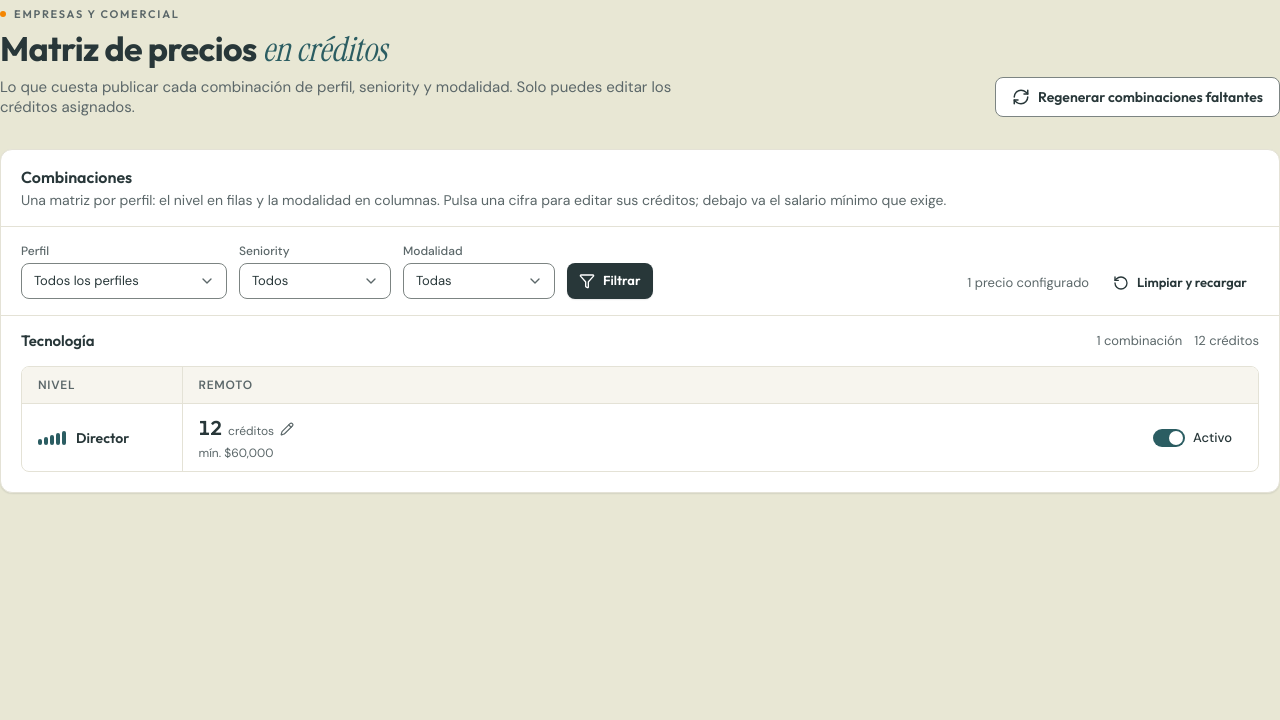
Test: /admin/pricing › ADM-067: el error del servidor al guardar se ve dentro del modal
Click the button titled "Editar créditos" at coordinates (246, 429), box [192,414,300,443]
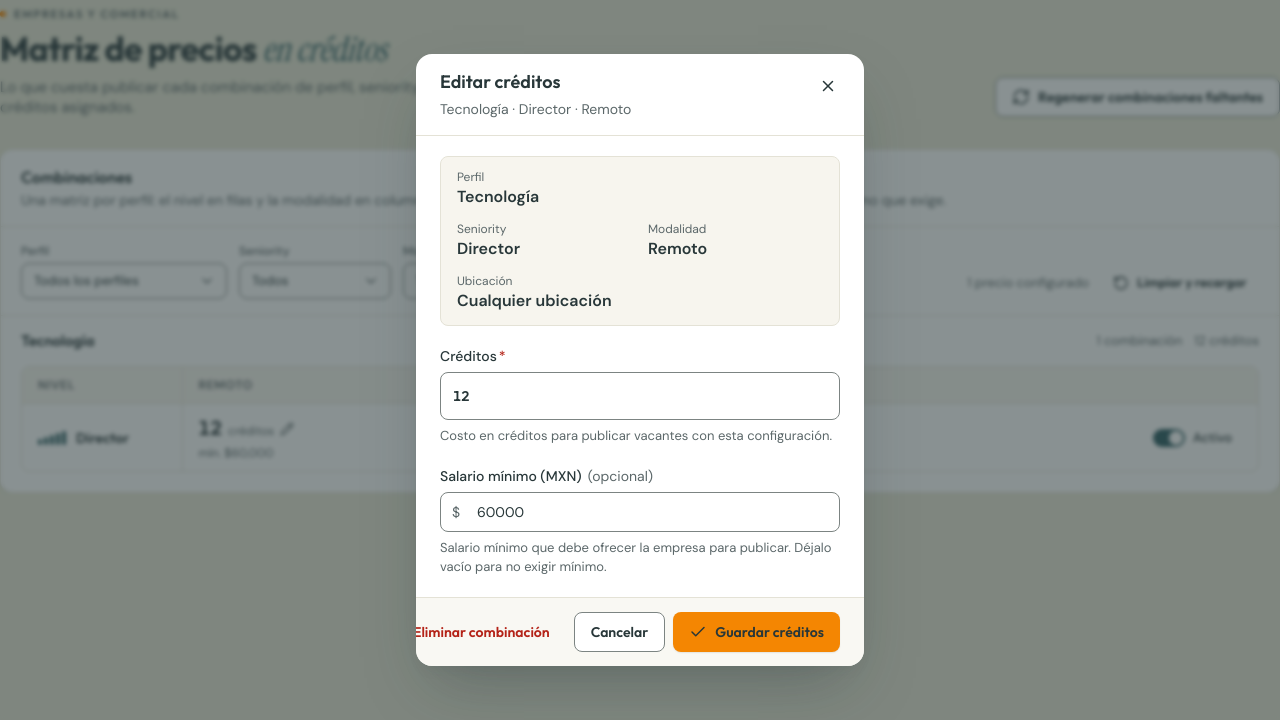
Replace the text in the number field labelled "Créditos*" with "9" at coordinates (640, 396), box [440,372,840,420]
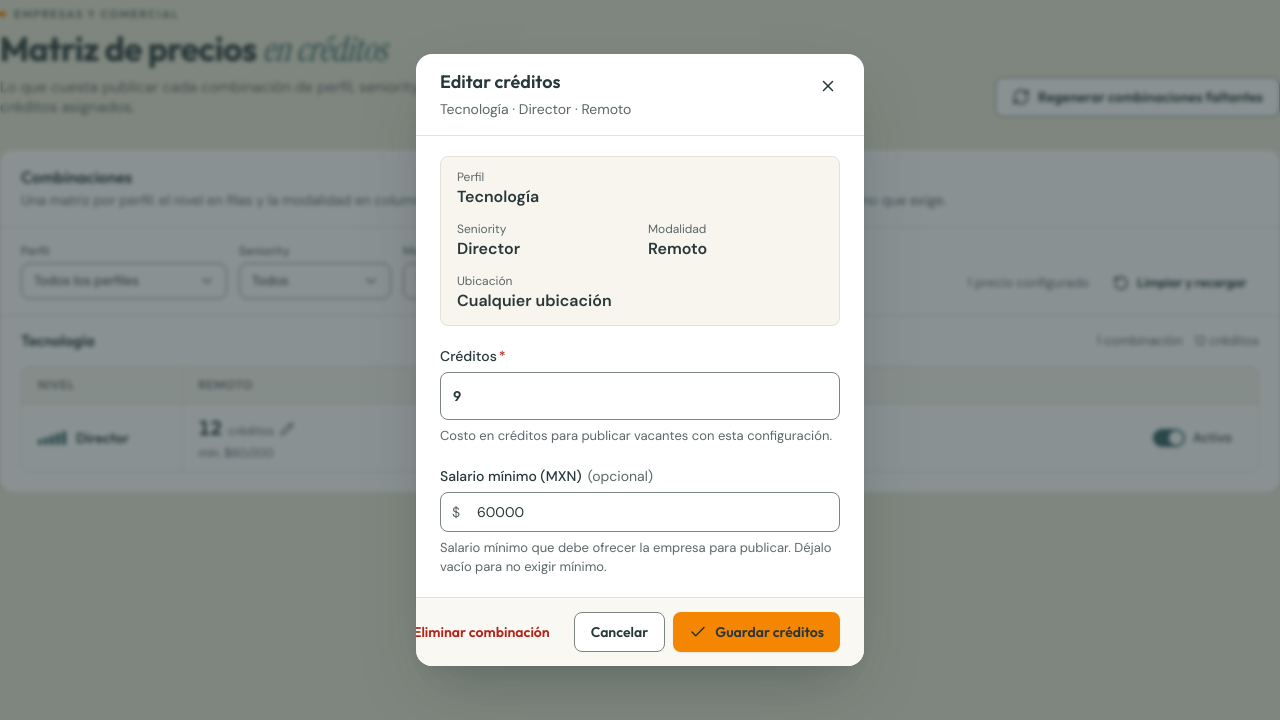
Submit the form, box [440,156,840,577]
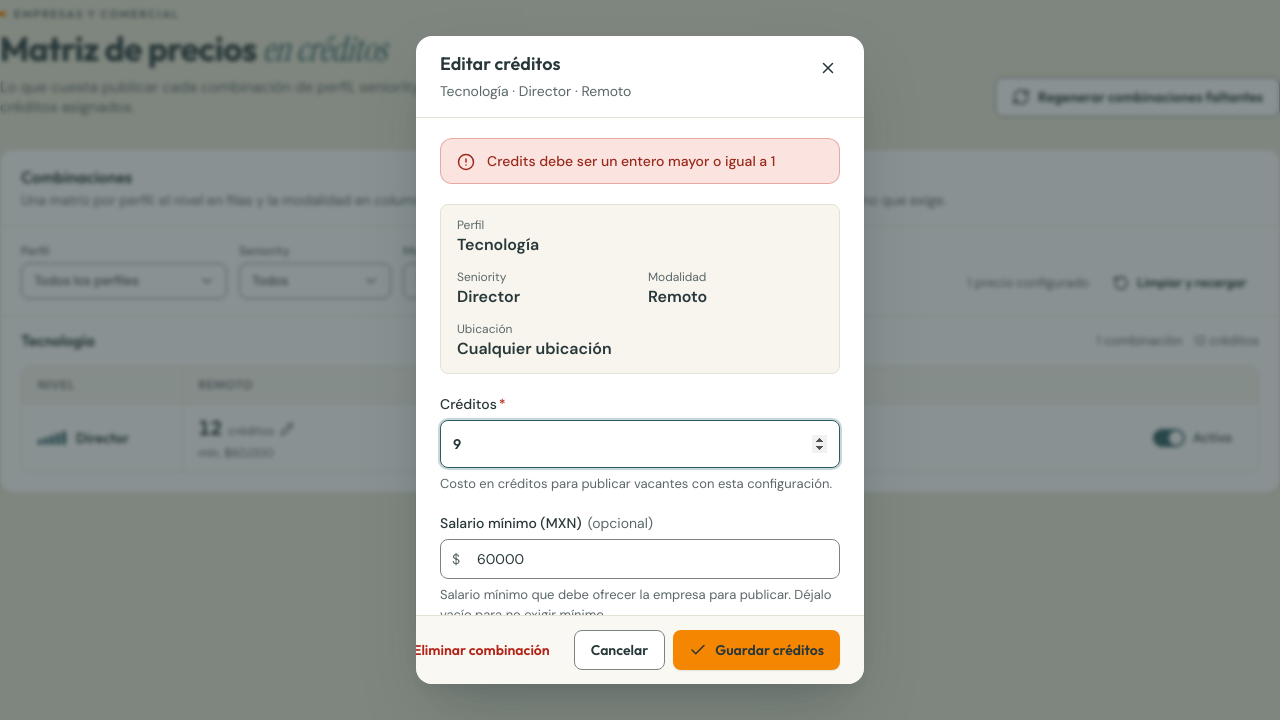
Check: the message shows "Credits debe ser un entero", box [487,152,775,170]
